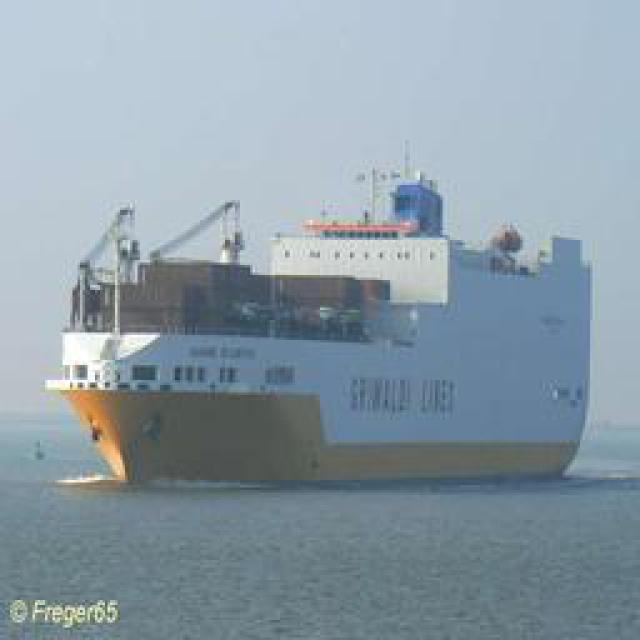Ship: (44, 151, 607, 491)
